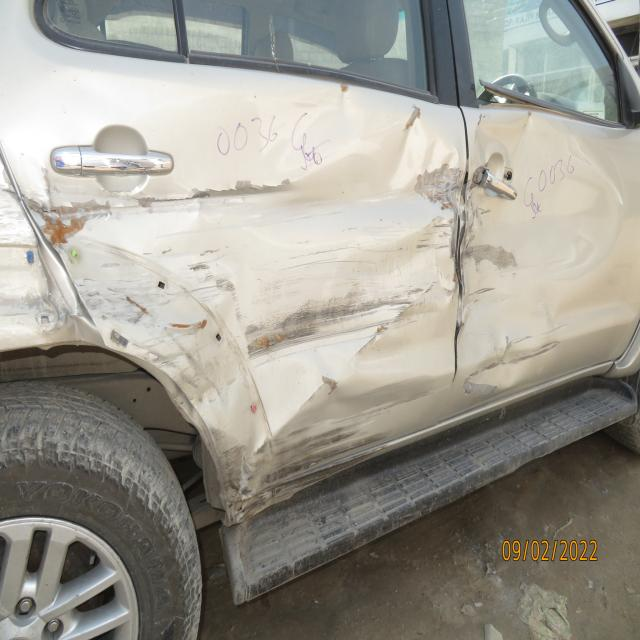damage: (18, 71, 460, 486), (4, 202, 267, 497), (465, 99, 633, 406)
